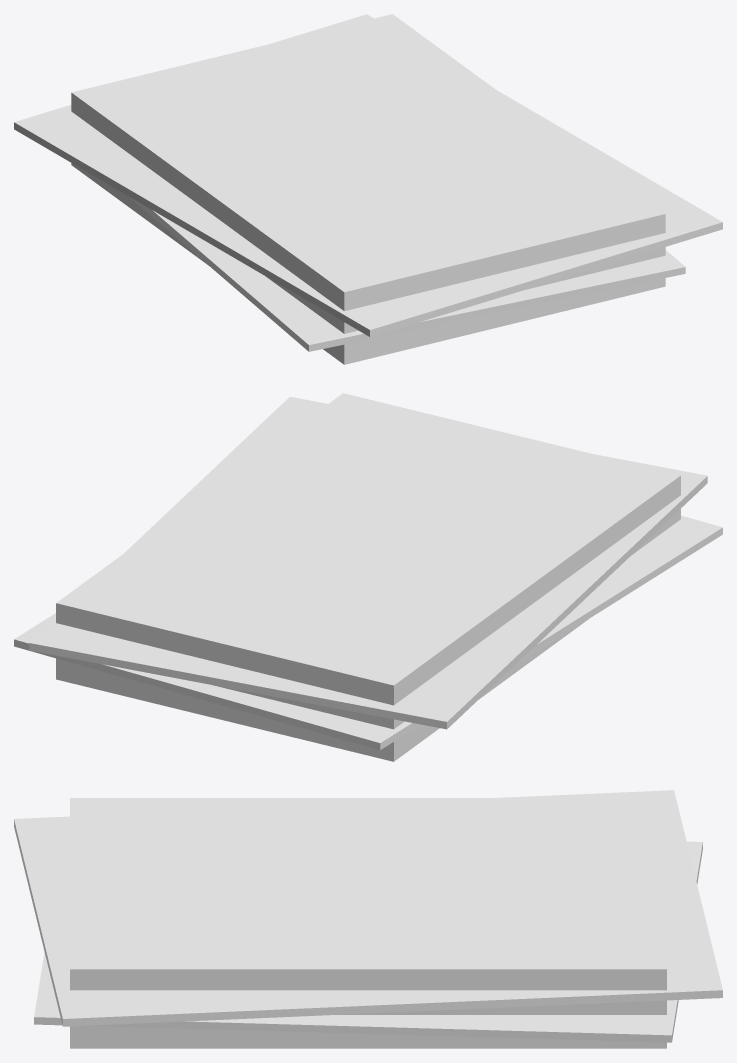
Rendered from Papeis 1.FBX.
The picture shows the model from 3 angles, top to bottom: view 1: azimuth 30°, elevation 25°; view 2: azimuth 150°, elevation 25°; view 3: azimuth 270°, elevation 25°; orthographic projection. The views are drawn at different scales.
Parts seen in each view (by area): view 1: Box020; view 2: Box020; view 3: Box020.
Boxes of the visible parts, <box> form: Box020: <box>14,14,722,364</box>; Box020: <box>14,393,722,761</box>; Box020: <box>14,790,722,1048</box>.
Size of the model in its own units: 181 by 29.3 by 237.
